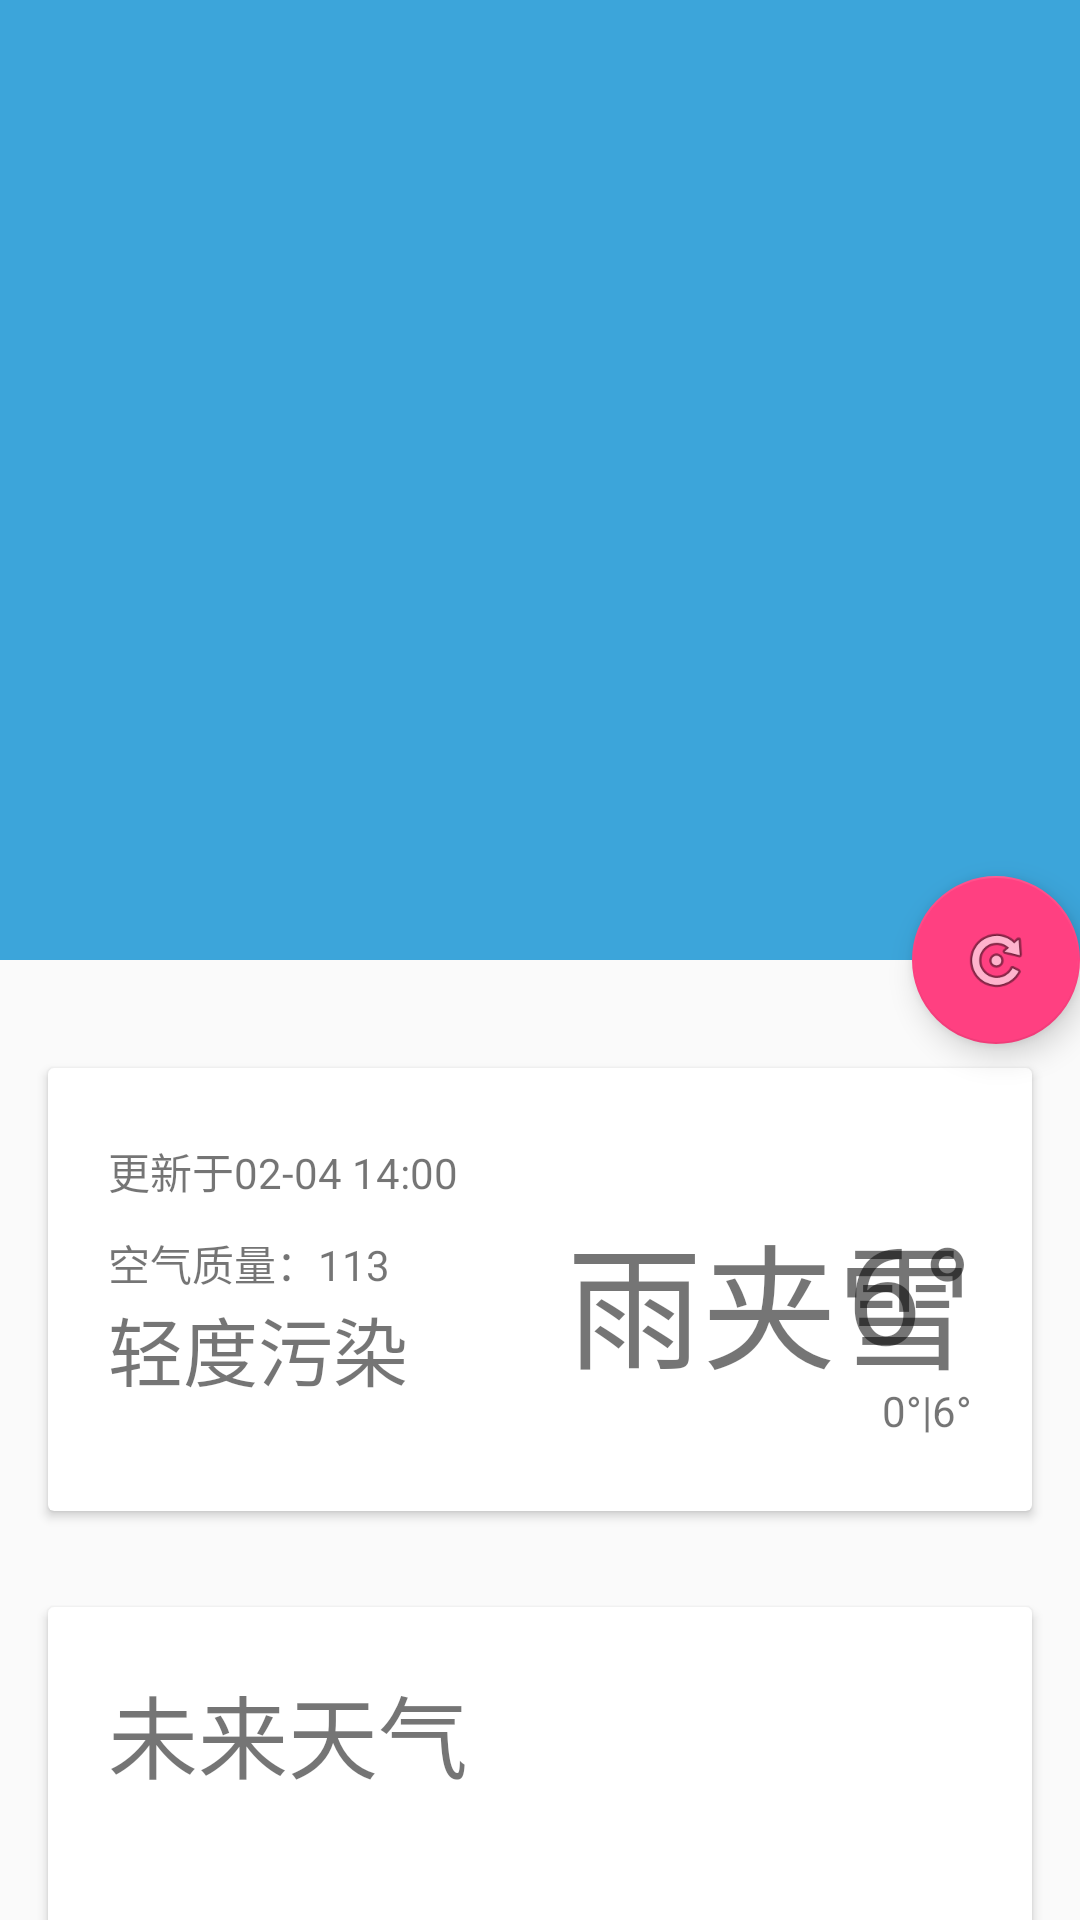

Named icons in this screenshot (1080px×1920px) and their centers, (x=x, y=y):
rotate: (x=996, y=960)
